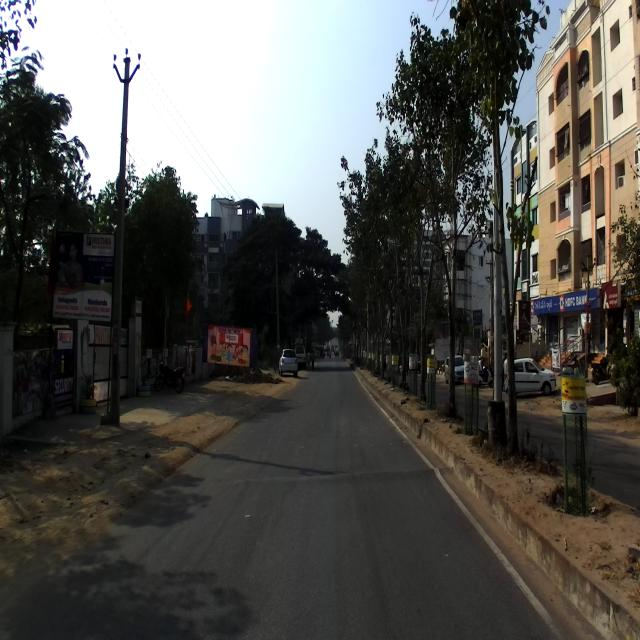electric pole ahead at: (100, 38, 146, 430)
